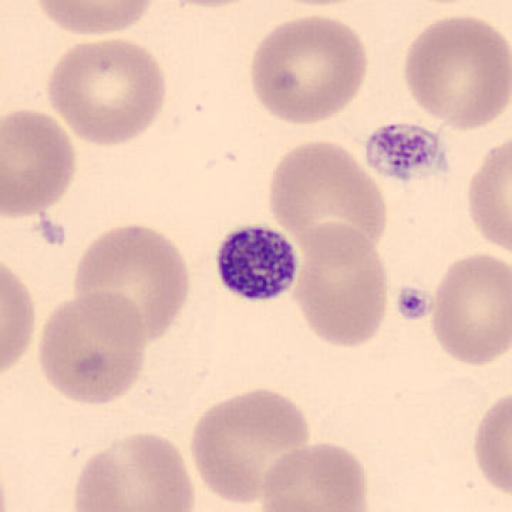Platelet: (212, 222, 300, 304), (362, 120, 452, 183)
RBC: (72, 222, 191, 344), (268, 139, 388, 259), (190, 388, 311, 506), (249, 14, 370, 126), (45, 36, 168, 146), (288, 218, 389, 350), (402, 13, 512, 132), (37, 290, 148, 407), (72, 431, 196, 512), (429, 251, 512, 366), (1, 107, 77, 219), (260, 440, 369, 512), (468, 136, 512, 255), (34, 0, 157, 37), (473, 392, 512, 498), (1, 262, 37, 374), (170, 0, 254, 8)
